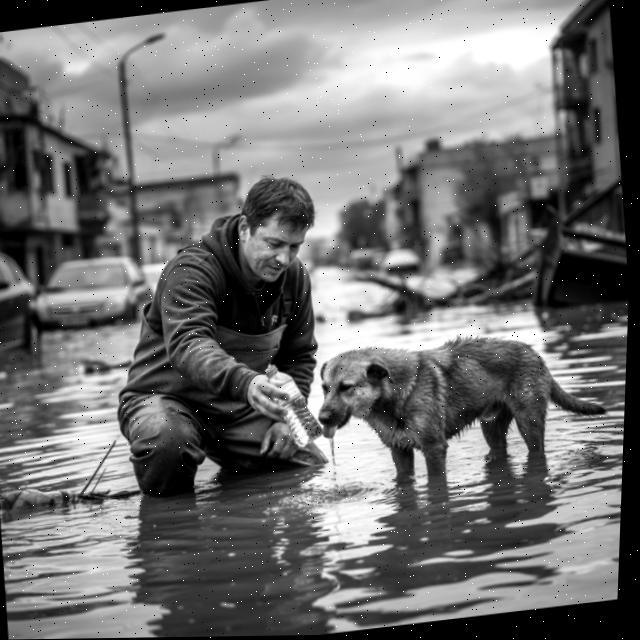civilian: (76, 163, 358, 520)
dog: (306, 316, 623, 494)
